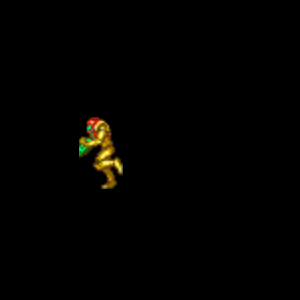Collectible: (79, 117, 123, 189)
